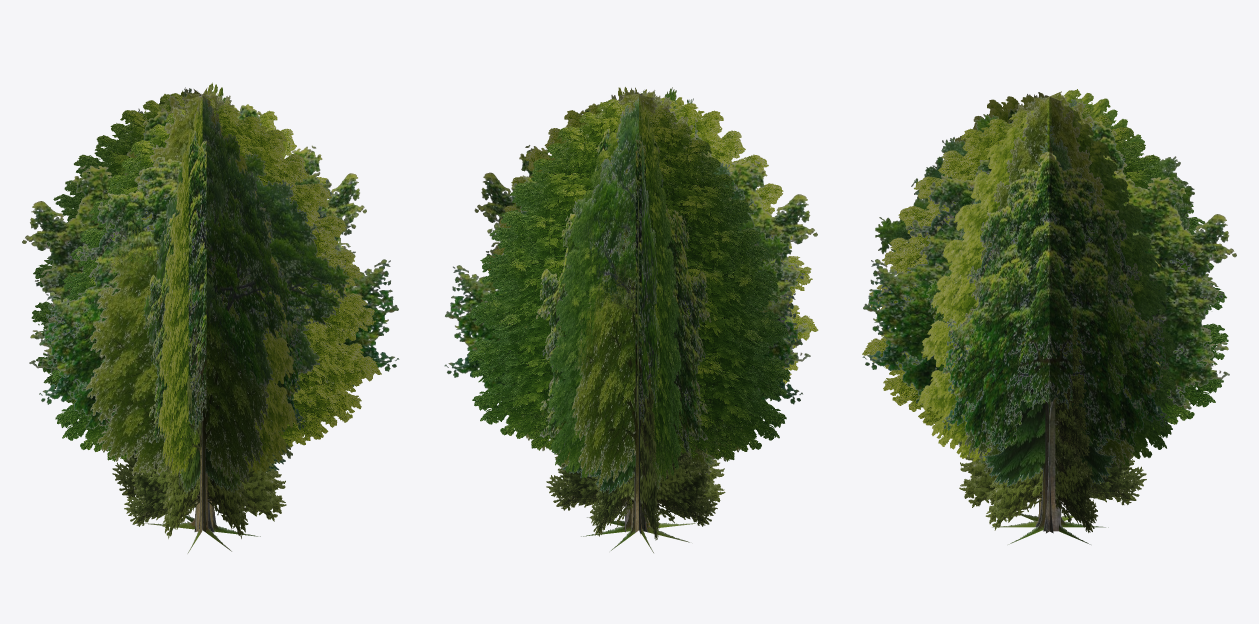
The model's file is trees-european-v1.glb.
The picture shows the model from 3 angles, left to right: view 1: azimuth 30°, elevation 25°; view 2: azimuth 150°, elevation 25°; view 3: azimuth 270°, elevation 25°; orthographic projection.
Parts seen in each view (by area): view 1: Tree 1 Ahorn-material4-lod0, Tree 5-material2-lod0, Tree 4 Eiche-material5-lod0, Tree 7 Spitzahorn-material0-lod0, Tree 3 Fichte-material6-lod0, Tree 6 Fichte-material1-lod0, Tree 2 Birke-material3-lod0; view 2: Tree 1 Ahorn-material4-lod0, Tree 5-material2-lod0, Tree 4 Eiche-material5-lod0, Tree 7 Spitzahorn-material0-lod0, Tree 3 Fichte-material6-lod0, Tree 6 Fichte-material1-lod0; view 3: Tree 5-material2-lod0, Tree 1 Ahorn-material4-lod0, Tree 3 Fichte-material6-lod0, Tree 4 Eiche-material5-lod0, Tree 7 Spitzahorn-material0-lod0, Tree 6 Fichte-material1-lod0.
Part boxes in pixels (x1,y1,x2,y2): Tree 1 Ahorn-material4-lod0: [31, 82, 381, 534]; Tree 5-material2-lod0: [22, 104, 399, 523]; Tree 4 Eiche-material5-lod0: [138, 88, 349, 532]; Tree 7 Spitzahorn-material0-lod0: [85, 84, 305, 532]; Tree 3 Fichte-material6-lod0: [112, 140, 286, 538]; Tree 6 Fichte-material1-lod0: [134, 438, 287, 553]; Tree 2 Birke-material3-lod0: [180, 94, 204, 530]; Tree 1 Ahorn-material4-lod0: [468, 87, 818, 531]; Tree 5-material2-lod0: [444, 103, 817, 532]; Tree 4 Eiche-material5-lod0: [556, 87, 786, 533]; Tree 7 Spitzahorn-material0-lod0: [525, 87, 740, 532]; Tree 3 Fichte-material6-lod0: [546, 168, 725, 540]; Tree 6 Fichte-material1-lod0: [549, 185, 714, 552]; Tree 5-material2-lod0: [862, 104, 1236, 533]; Tree 1 Ahorn-material4-lod0: [862, 89, 1228, 520]; Tree 3 Fichte-material6-lod0: [959, 138, 1146, 532]; Tree 4 Eiche-material5-lod0: [875, 96, 1212, 527]; Tree 7 Spitzahorn-material0-lod0: [957, 90, 1177, 479]; Tree 6 Fichte-material1-lod0: [974, 125, 1116, 544].
Size of what is drawn, in the model's own units: 0.8216 by 1 by 0.8216.
7 materials, 7 textured.
